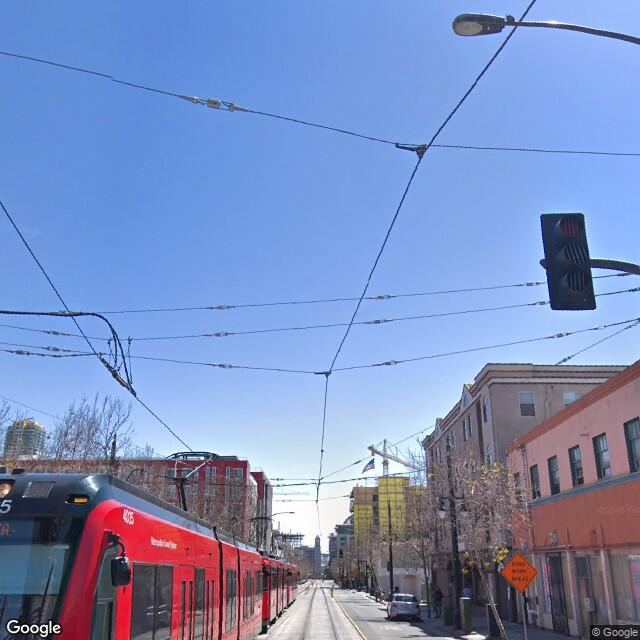window: (568, 445, 588, 491), (594, 431, 613, 479), (626, 420, 640, 456)
